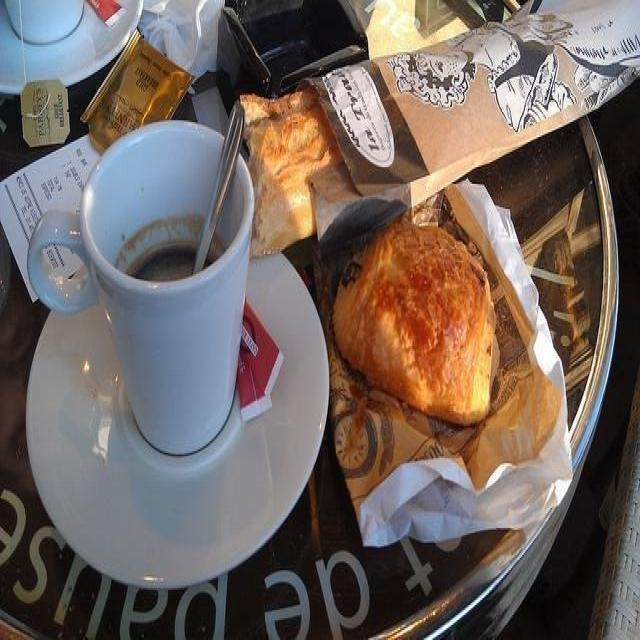cup-handle: (26, 117, 254, 456)
